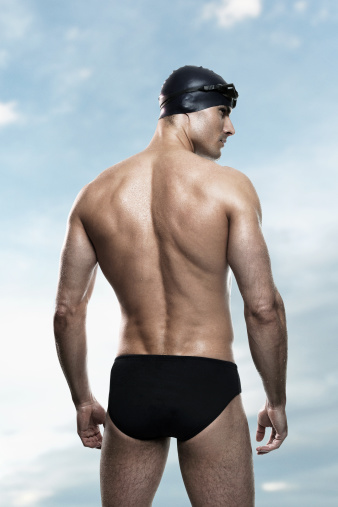em pe: (35, 55, 295, 507)
